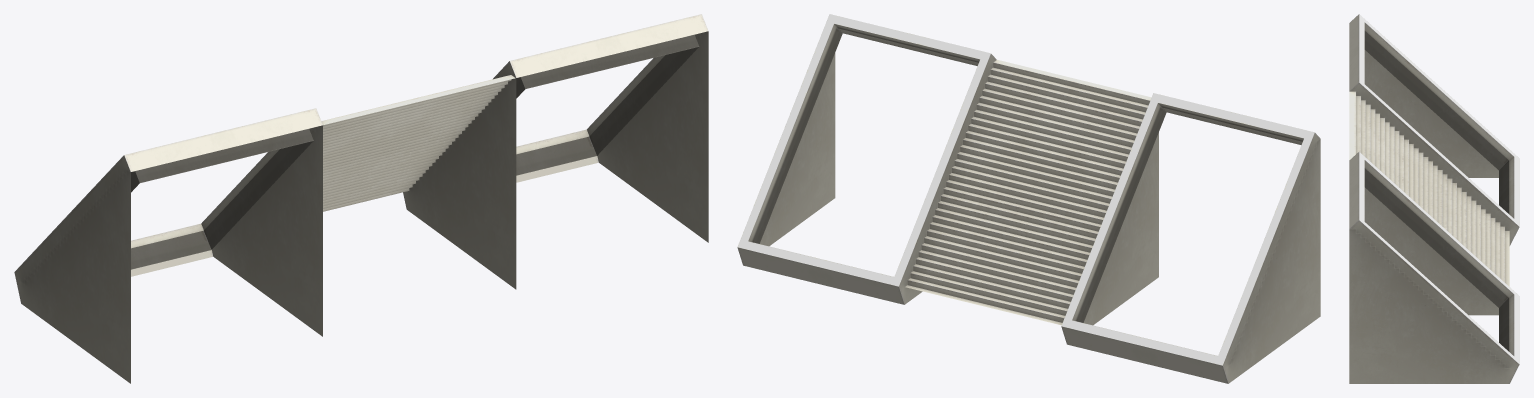
File: Stairs.001.fbx
The picture shows the model from 3 angles, left to right: view 1: azimuth 30°, elevation 25°; view 2: azimuth 150°, elevation 25°; view 3: azimuth 270°, elevation 25°; orthographic projection. The views are drawn at different scales.
Parts seen in each view (by area): view 1: hedge basin, stairs; view 2: hedge basin, stairs; view 3: hedge basin, stairs.
Part boxes in pixels (bbox=[...]): hedge basin: bbox=[14, 14, 708, 383]; stairs: bbox=[321, 75, 515, 211]; hedge basin: bbox=[737, 14, 1320, 383]; stairs: bbox=[905, 59, 1151, 325]; hedge basin: bbox=[1349, 14, 1519, 383]; stairs: bbox=[1349, 91, 1509, 286].
Bounding box in the file's own units: 18.04 × 6.3 × 6.68.
